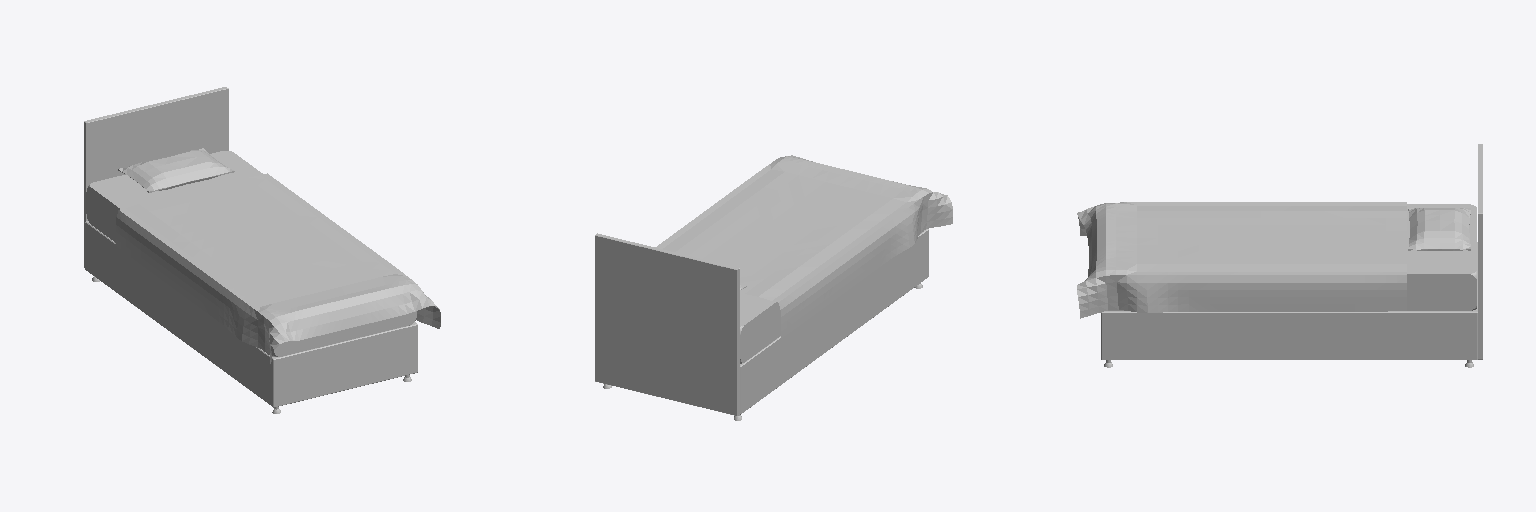
Rendered from Bed6Main.obj.
The picture shows the model from 3 angles: view 1: azimuth 30°, elevation 25°; view 2: azimuth 150°, elevation 25°; view 3: azimuth 270°, elevation 25°; orthographic projection.
Parts seen in each view (by area): view 1: Plane, Cube, Cube.002, Cube.001, Cube.003_Cube.005; view 2: Plane, Cube.002, Cube, Cube.001; view 3: Plane, Cube, Cube.001, Cube.003_Cube.005, Cube.002.
Boxes of the visible parts, x1=… form: Plane: x1=116, y1=173, x2=440, y2=363; Cube: x1=85, y1=221, x2=417, y2=407; Cube.002: x1=84, y1=87, x2=228, y2=267; Cube.001: x1=86, y1=151, x2=416, y2=356; Cube.003_Cube.005: x1=118, y1=148, x2=234, y2=192; Plane: x1=655, y1=155, x2=952, y2=338; Cube.002: x1=595, y1=233, x2=739, y2=415; Cube: x1=740, y1=229, x2=928, y2=414; Cube.001: x1=740, y1=231, x2=923, y2=363; Plane: x1=1077, y1=202, x2=1406, y2=318; Cube: x1=1101, y1=242, x2=1477, y2=359; Cube.001: x1=1108, y1=204, x2=1476, y2=310; Cube.003_Cube.005: x1=1408, y1=208, x2=1470, y2=250; Cube.002: x1=1478, y1=144, x2=1482, y2=359.
Size of the model in its own units: 5.12 by 4.48 by 10.63.